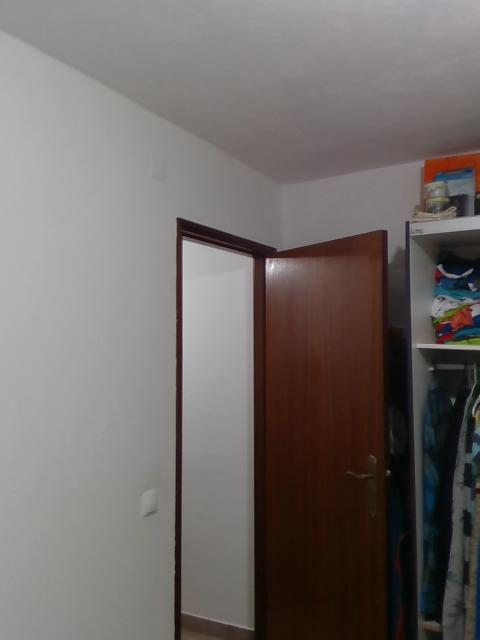open_door: (173, 216, 277, 638)
